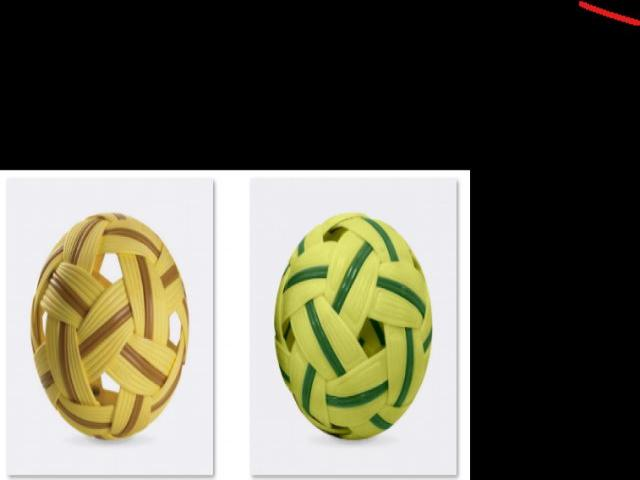round ball: (31, 213, 189, 439), (275, 214, 432, 439)
